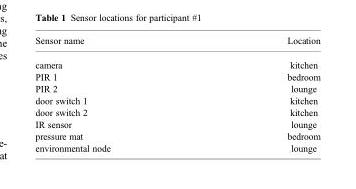table: (34, 34, 319, 152)
table column: (34, 34, 198, 152), (198, 34, 319, 152)
table column header: (34, 34, 319, 52)
table row: (34, 34, 319, 52), (34, 52, 319, 70), (34, 70, 319, 82), (34, 82, 319, 94), (34, 105, 319, 117), (34, 117, 319, 129), (34, 129, 319, 141), (34, 94, 319, 105), (34, 141, 319, 152)
